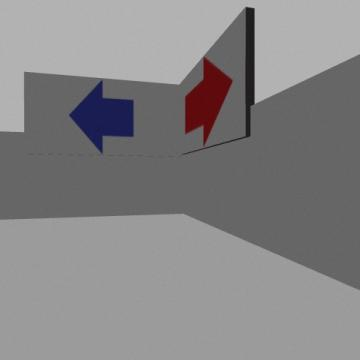blue_left: (70, 80, 133, 153)
red_right: (185, 58, 232, 146)
